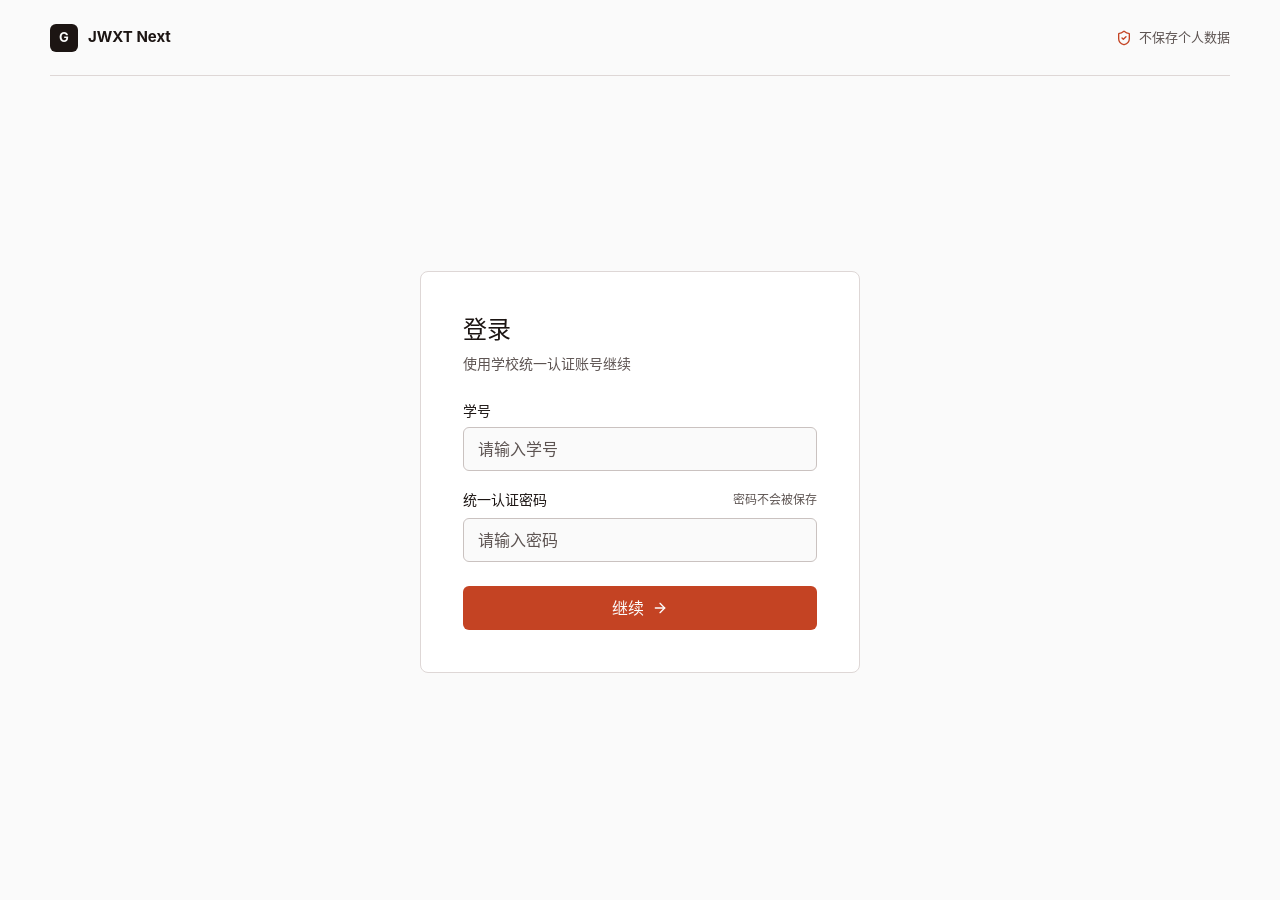
Test: login page › submits credentials and continues to the MFA status
The width and height of the screenshot is (1280, 900).
Type "20260001" into the field labelled "学号" at (640, 449), box [463, 427, 817, 471]
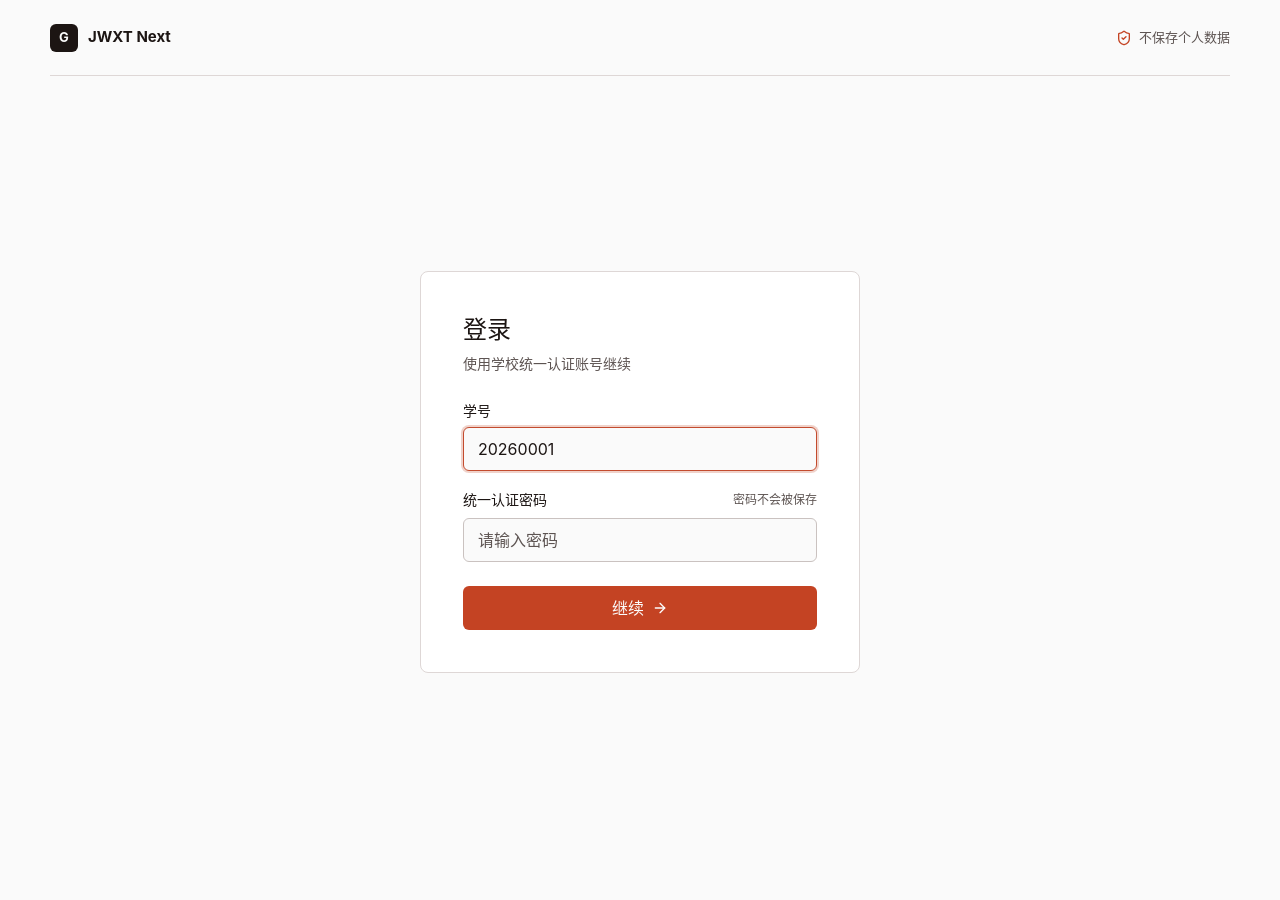
Type "password" into the password field labelled "统一认证密码" at (640, 540), box [463, 518, 817, 562]
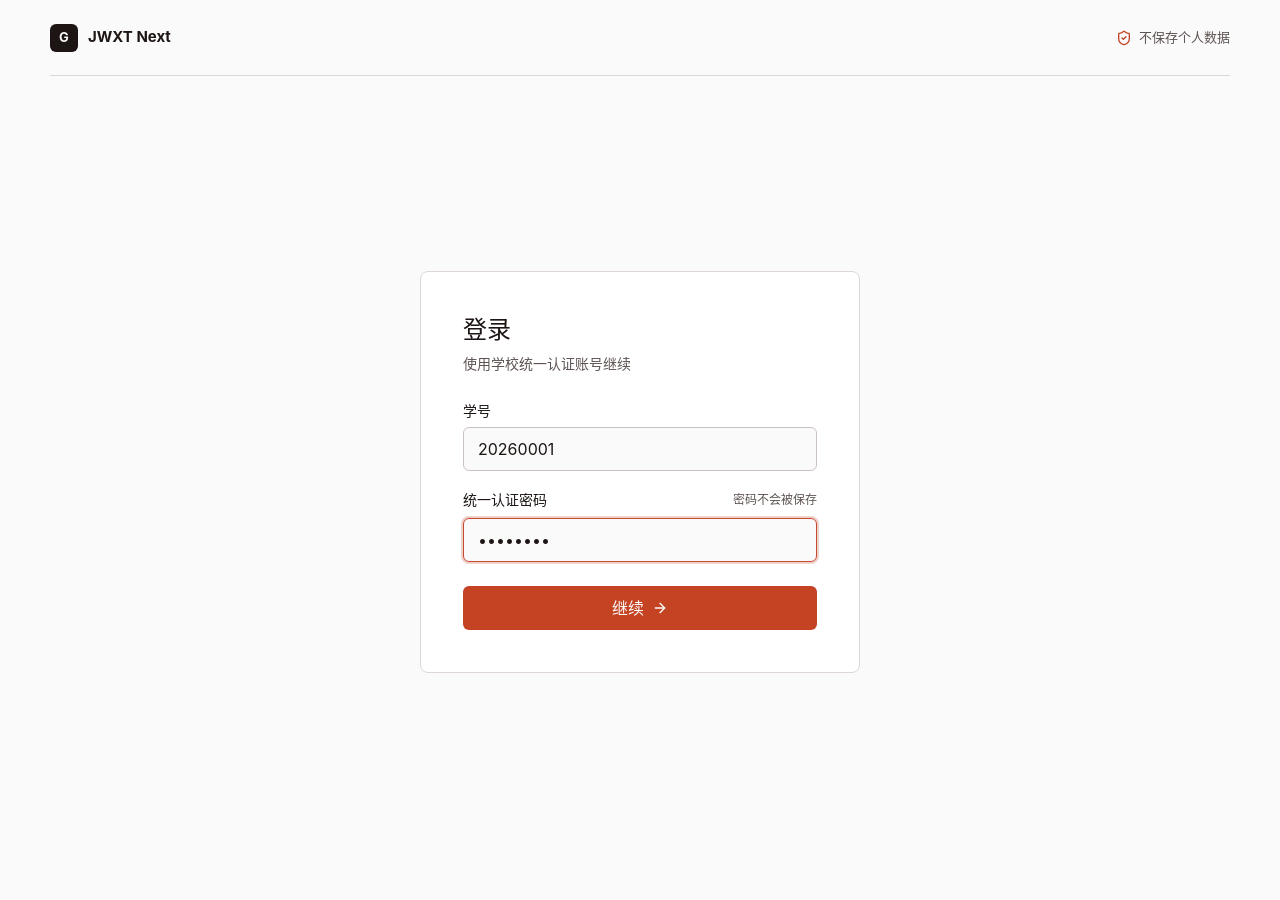
Click the button "继续" at (640, 608), box [463, 586, 817, 630]
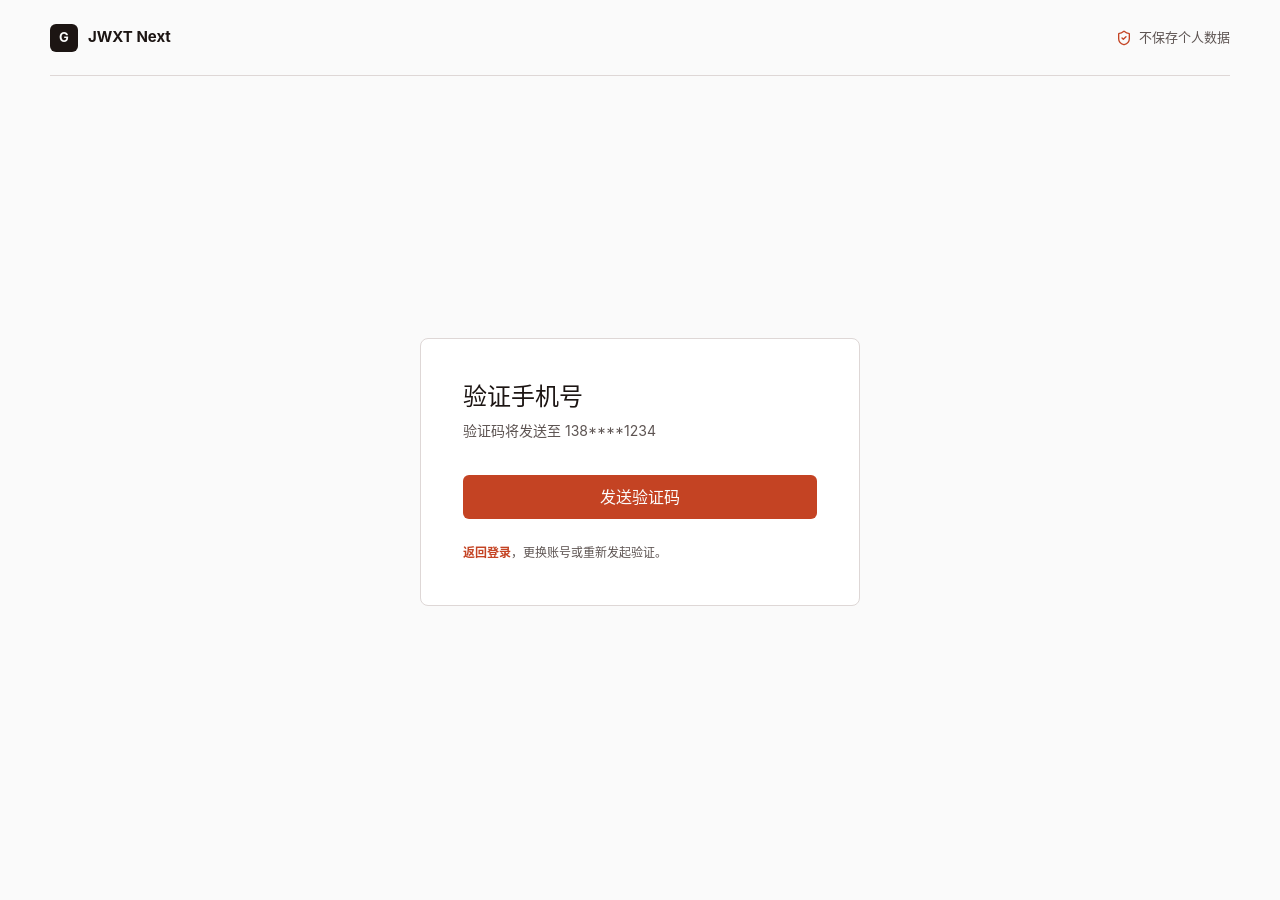
Expected: the heading "验证手机号" is shown, [463, 382, 583, 411]
Expected: the text "验证码将发送至 138****1234" is shown, [463, 422, 656, 439]
